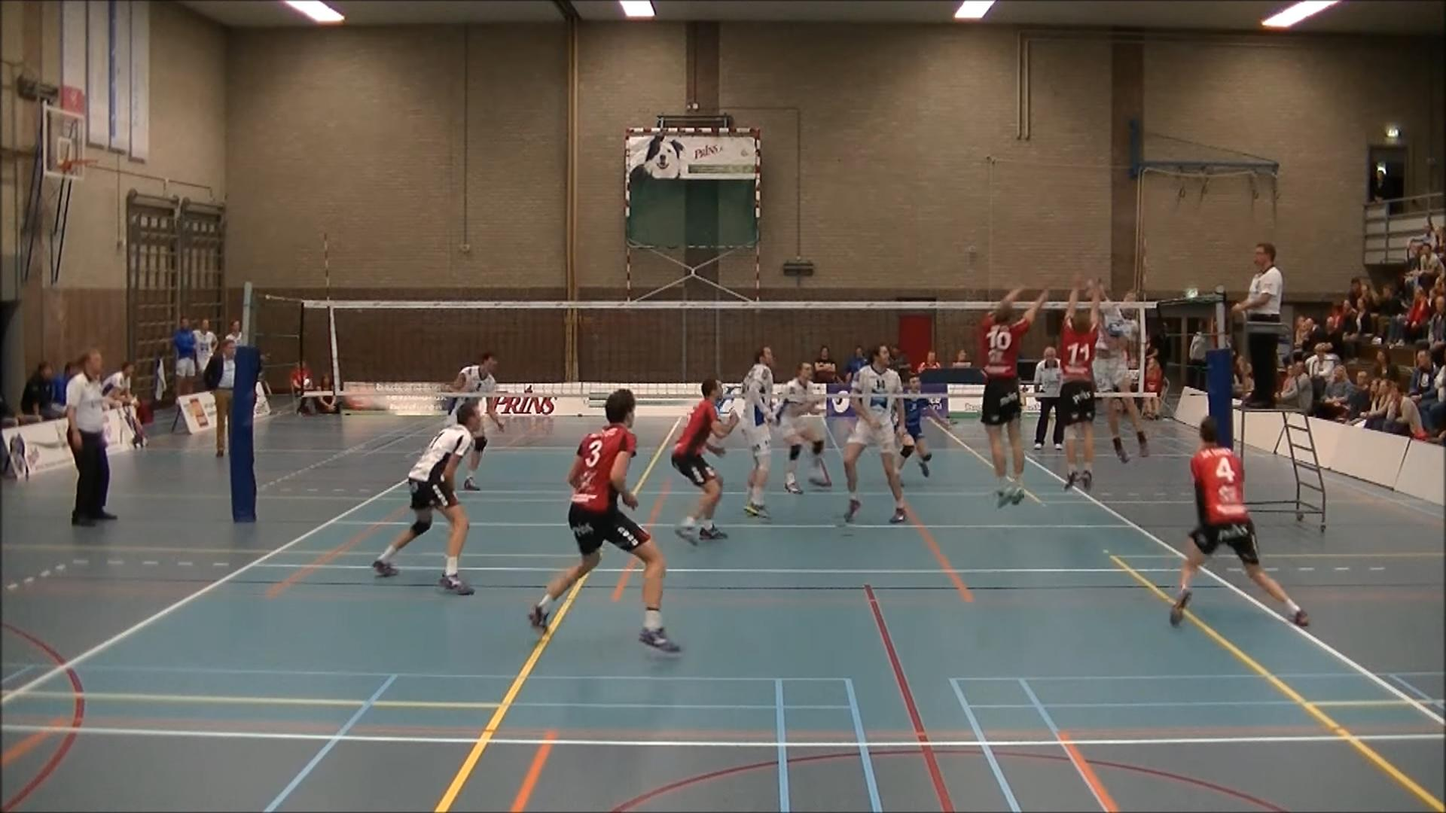attacco: (1084, 276, 1159, 472)
muro: (959, 280, 1045, 507), (1054, 275, 1111, 481)
